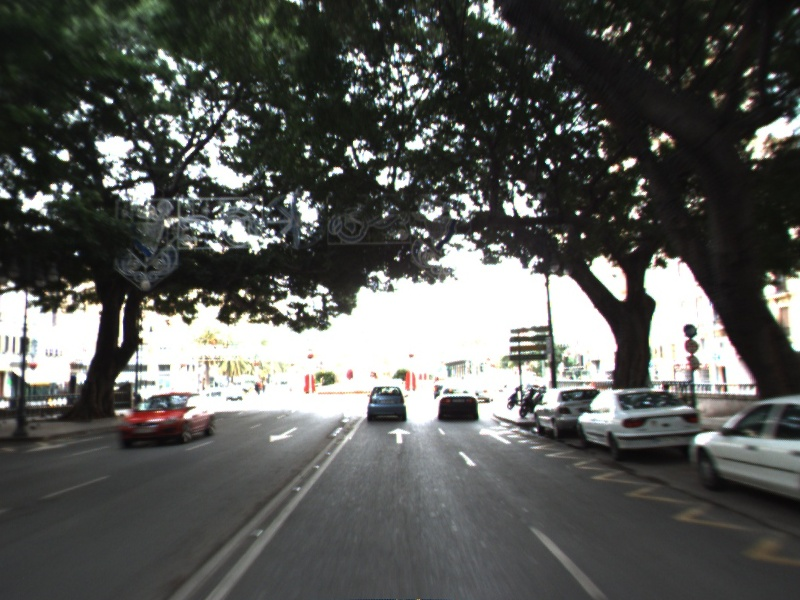STRAIGHT: (477, 426, 514, 446), (386, 426, 413, 445)
